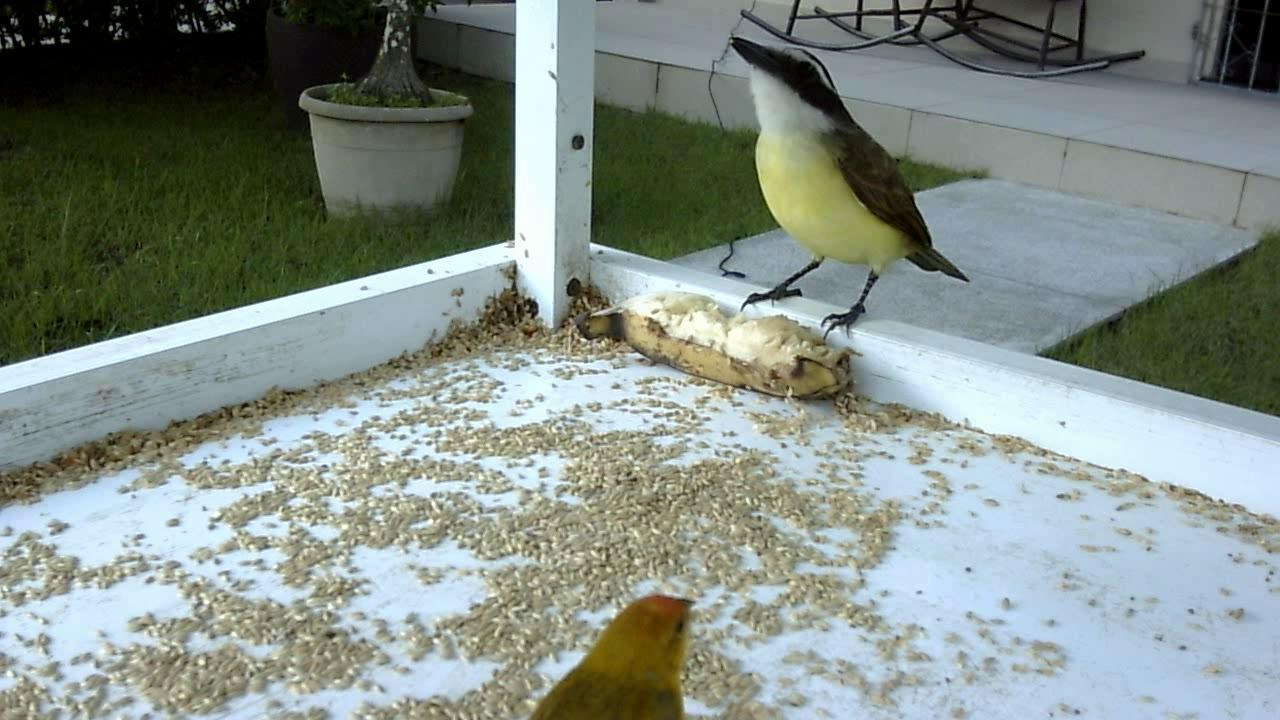bem_te_vi: (701, 25, 989, 359)
canario_do_amazonas: (520, 584, 710, 718)
